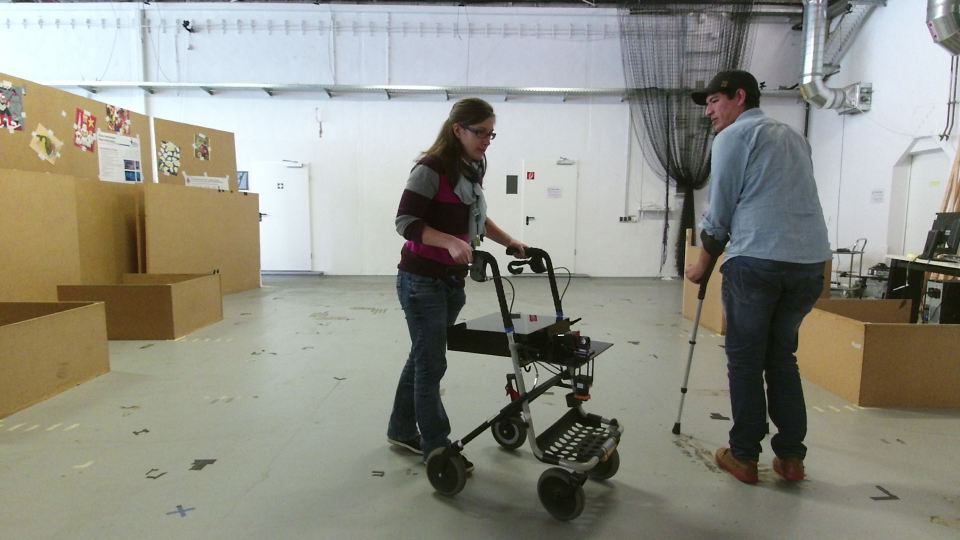crutches: (668, 63, 832, 487)
